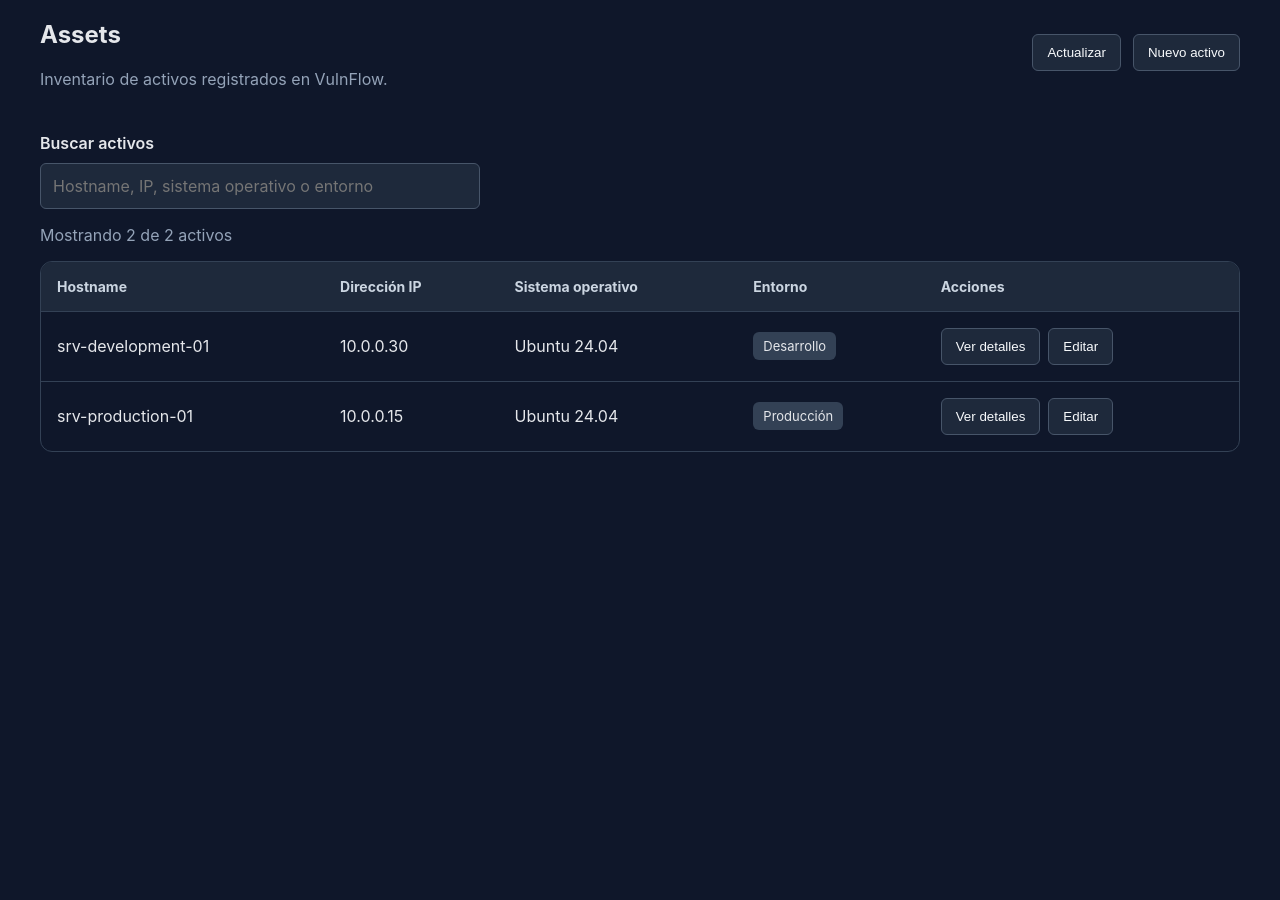
Test: AssetsPage permissions and forms › permite editar activos al rol admin
Expected: the text "srv-development-01" is shown, x1=41 y1=311 x2=324 y2=381
Click the button "Editar" in the row of "srv-development-01": (1081, 346) x1=1048 y1=328 x2=1113 y2=365
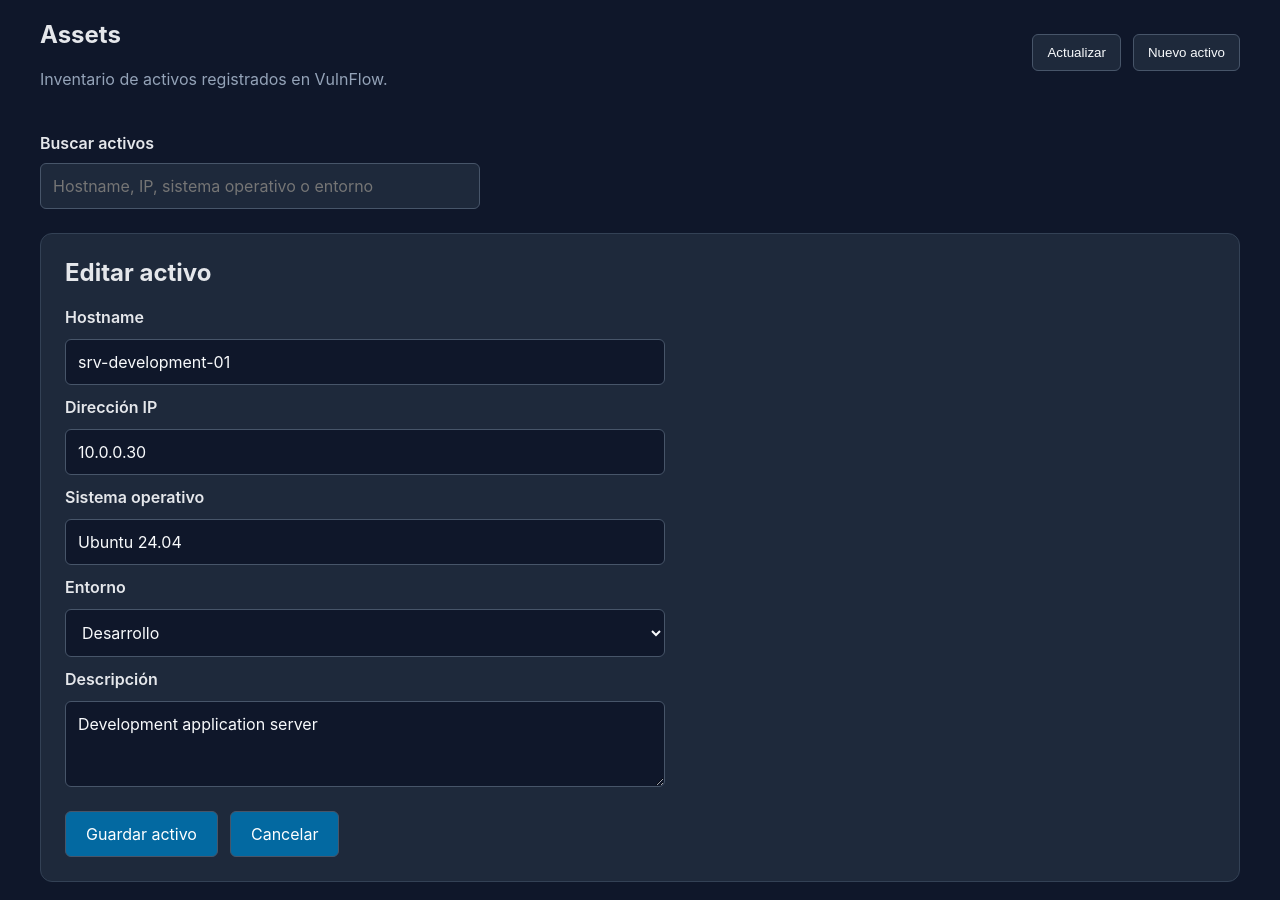
Expected: the field labelled "Hostname" holds "srv-development-01"
Replace the text in the field labelled "Hostname" with "srv-development-edited": (365, 362) x1=65 y1=339 x2=665 y2=385
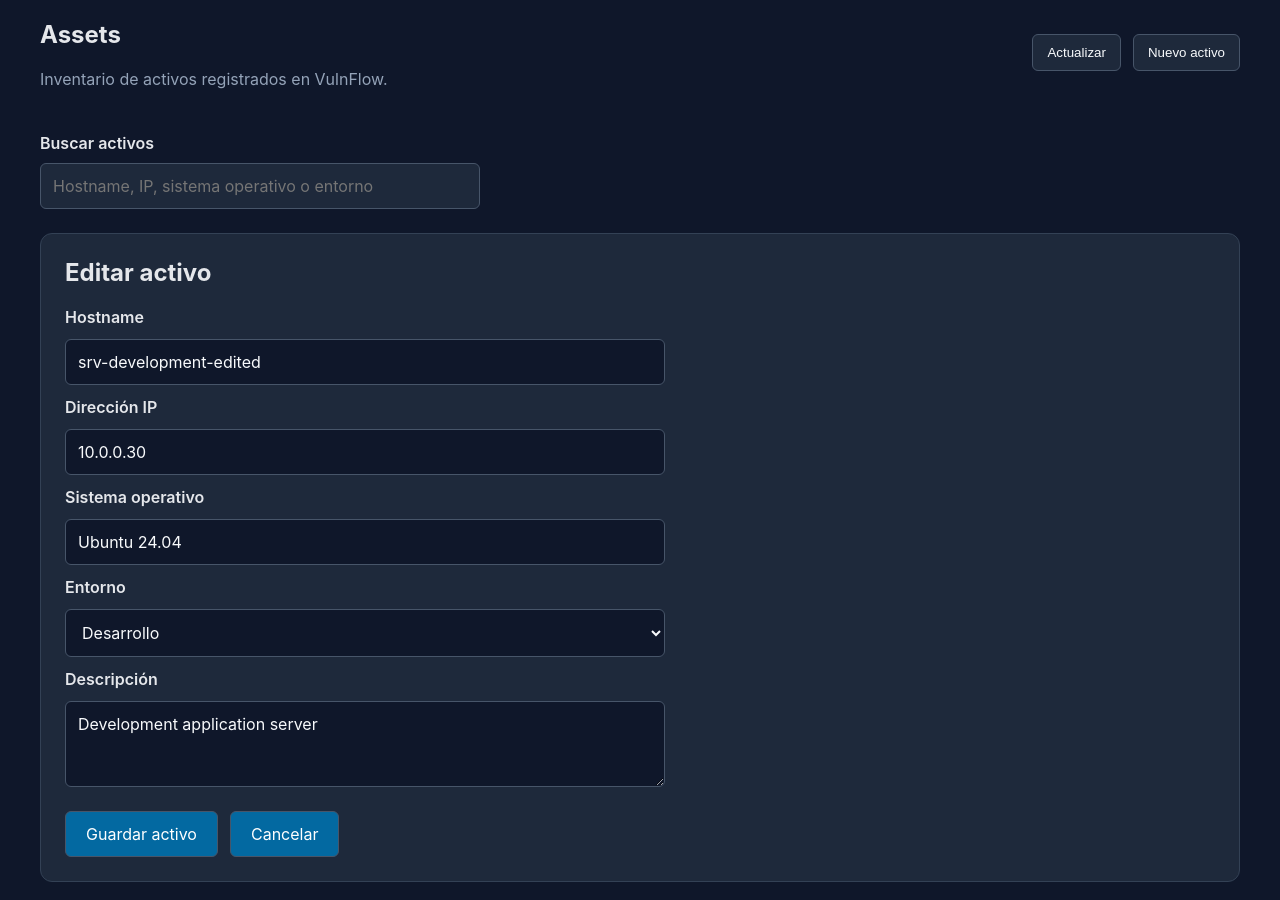
Click the button "Guardar activo": (142, 834) x1=65 y1=811 x2=218 y2=857
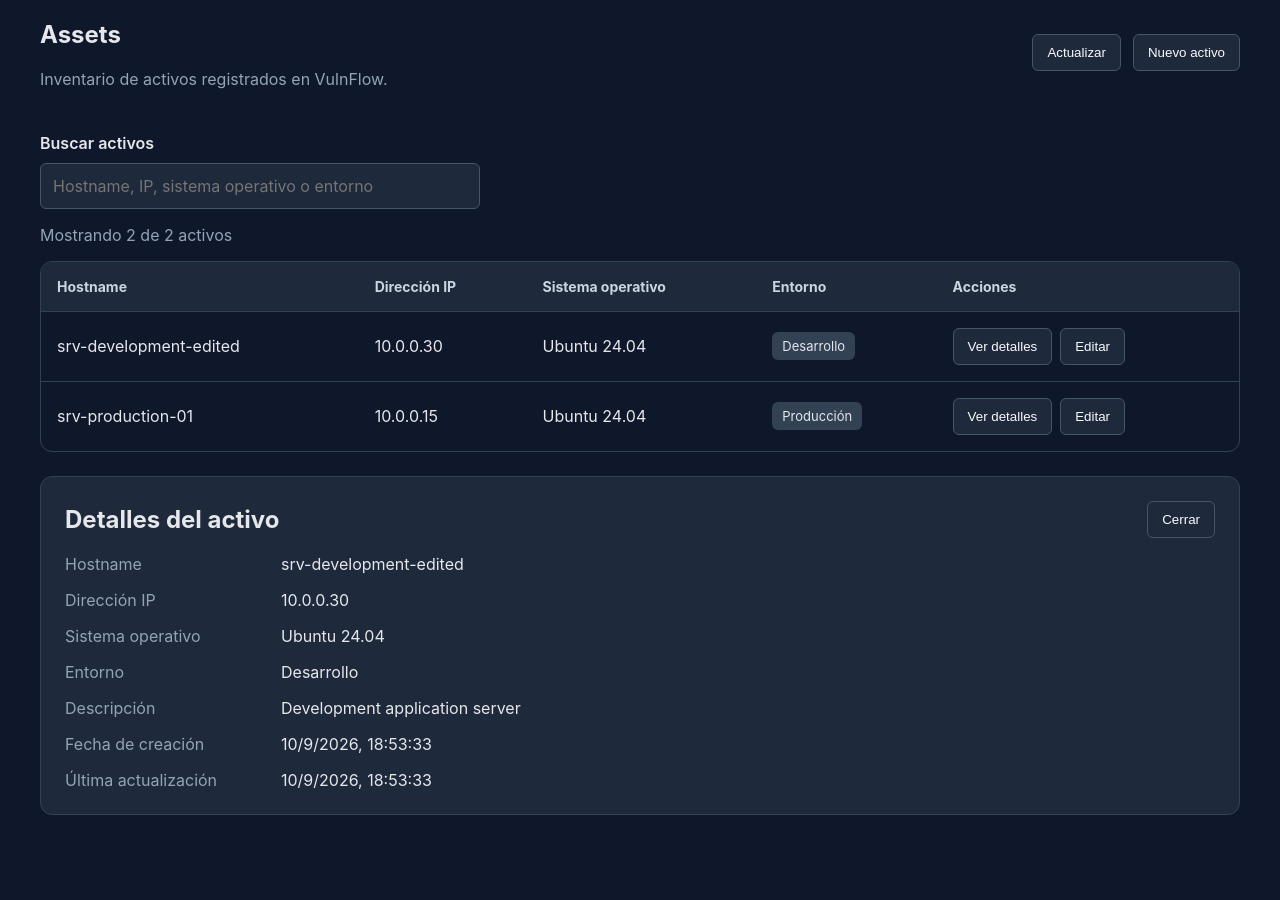
Expected: the text "srv-development-edited" is shown, x1=41 y1=311 x2=359 y2=381
